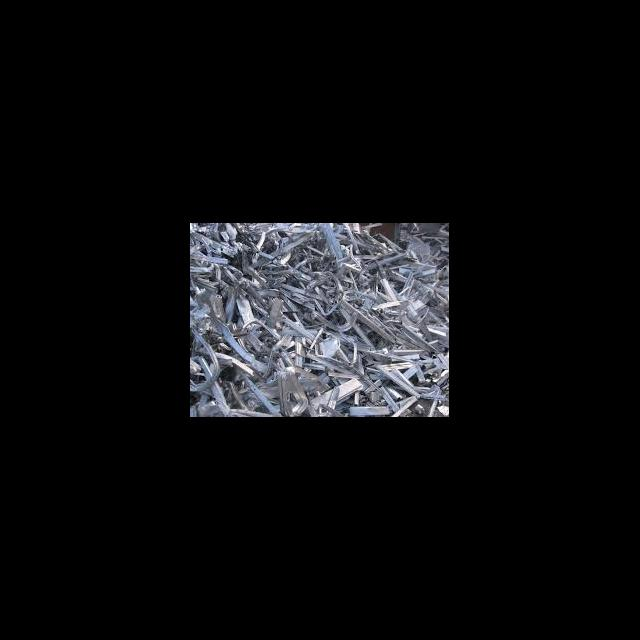metal: (190, 228, 230, 326), (372, 271, 436, 331), (314, 327, 382, 383), (194, 350, 242, 416), (270, 362, 312, 416), (306, 300, 364, 336), (234, 307, 288, 343), (346, 401, 392, 416)
